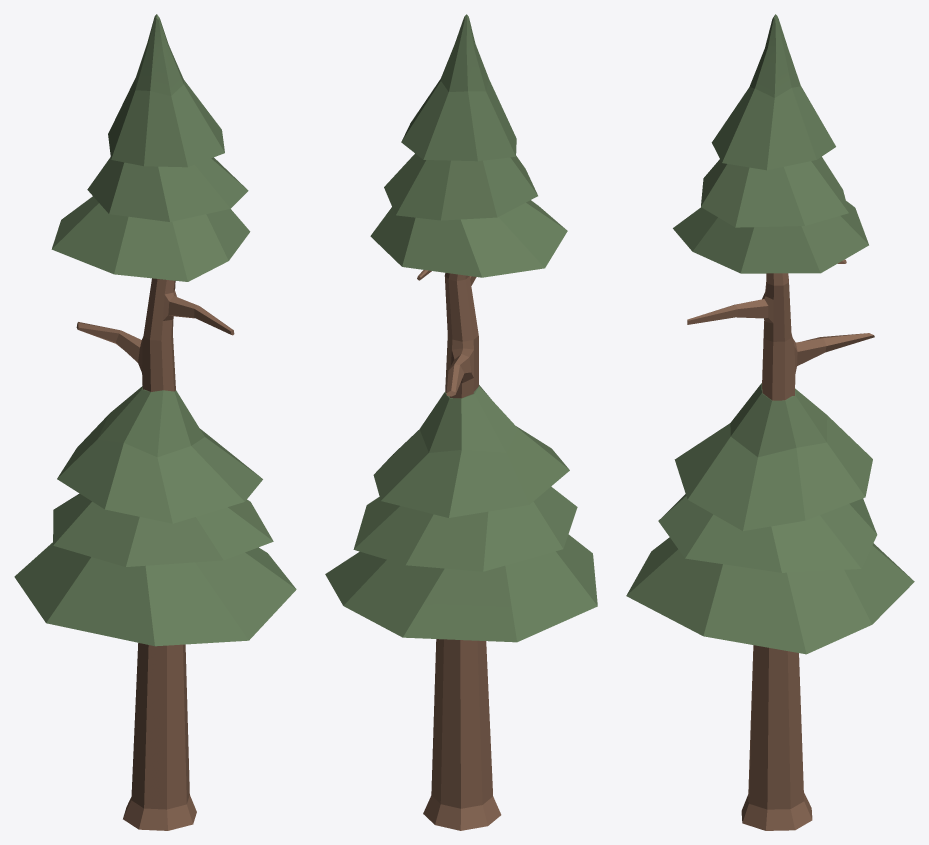
Rendered from Pine_Trees_Pack_Pine_07.fbx.
3 views of the same model, side by side, from view 1: azimuth 30°, elevation 25°; view 2: azimuth 150°, elevation 25°; view 3: azimuth 270°, elevation 25° (orthographic).
Visible parts, largest first — view 1: Pine_Trees_Pack_Pine_07; view 2: Pine_Trees_Pack_Pine_07; view 3: Pine_Trees_Pack_Pine_07.
Part boxes in pixels (left/top/right/bottom): Pine_Trees_Pack_Pine_07: left=14, top=14, right=296, bottom=830; Pine_Trees_Pack_Pine_07: left=325, top=14, right=597, bottom=830; Pine_Trees_Pack_Pine_07: left=626, top=14, right=914, bottom=830.
Size of the model in its own units: 198 by 614 by 201.
